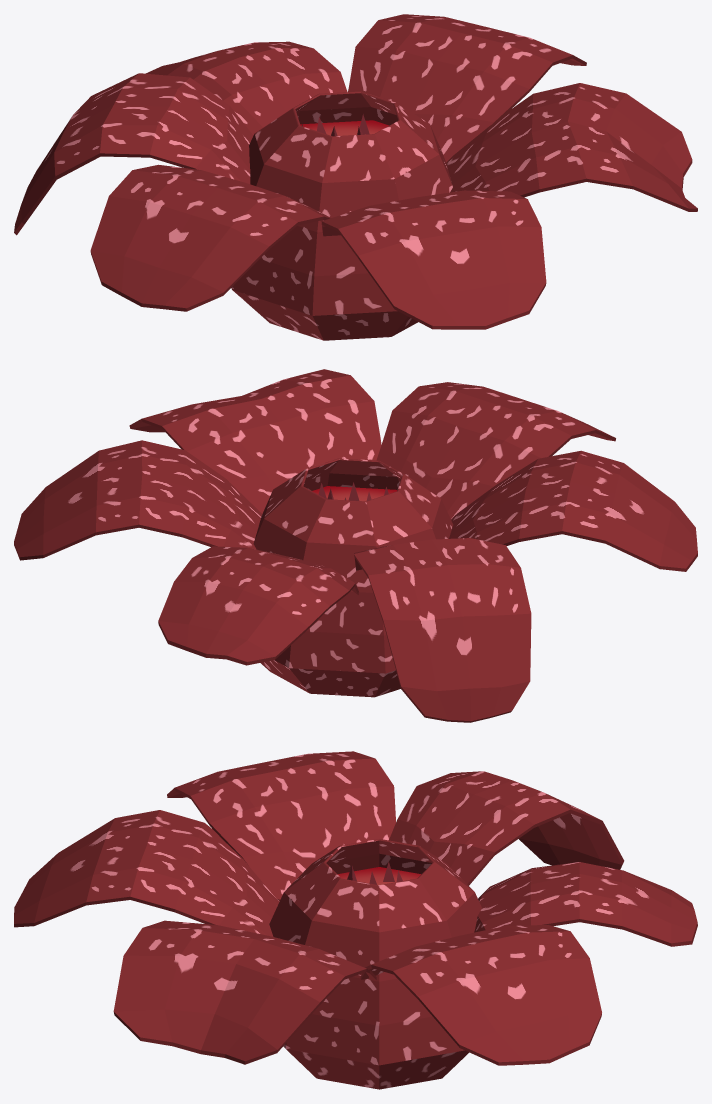
The model's file is KaTongRuuSii.glb.
3 renders of one model, top to bottom at view 1: azimuth 30°, elevation 25°; view 2: azimuth 150°, elevation 25°; view 3: azimuth 270°, elevation 25°, orthographic. The views are drawn at different scales.
Visible parts, largest first — view 1: Plane.011; view 2: Plane.011; view 3: Plane.011.
Boxes of the visible parts, box(x1,y1,x2,y2) form: Plane.011: box(14, 14, 697, 340); Plane.011: box(14, 369, 697, 722); Plane.011: box(14, 751, 697, 1089).
Size of the model in its own units: 5.74 by 1.85 by 5.86.
4 materials, 3 textured.
